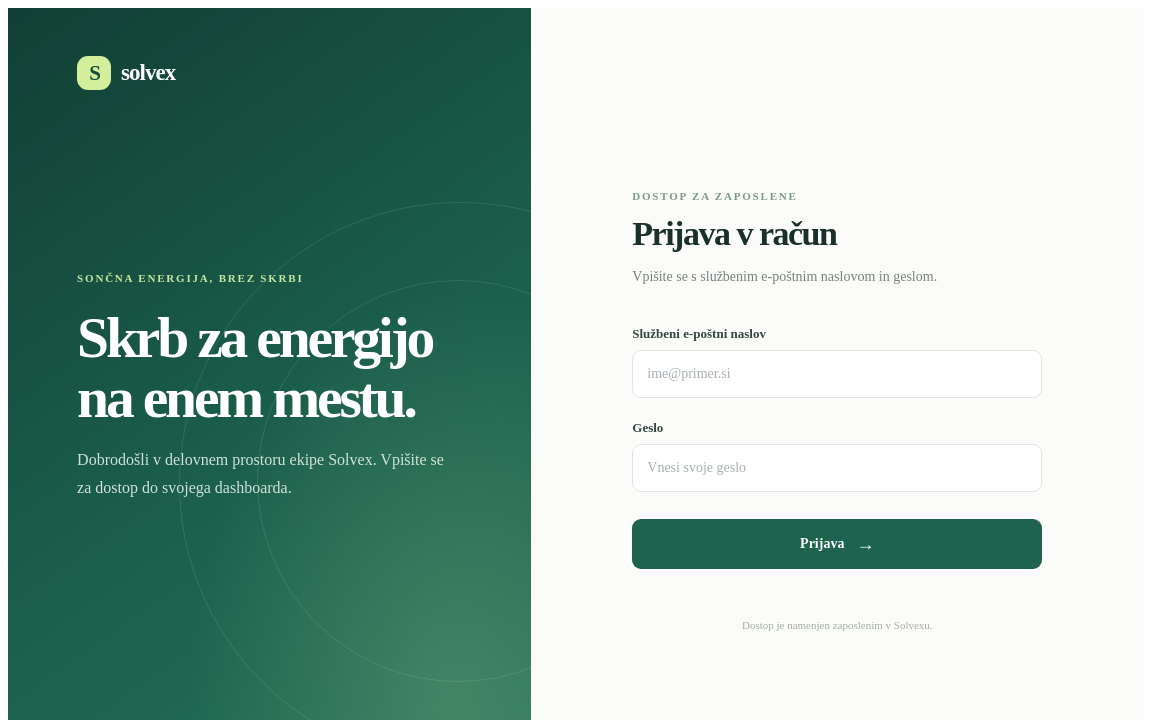
Prijava zaposlenega › ob nedosegljivem strežniku omogoči ponovni poskus
Type "test@example.com" into the field labelled "Službeni e-poštni naslov" at (837, 374), box [632,350,1042,398]
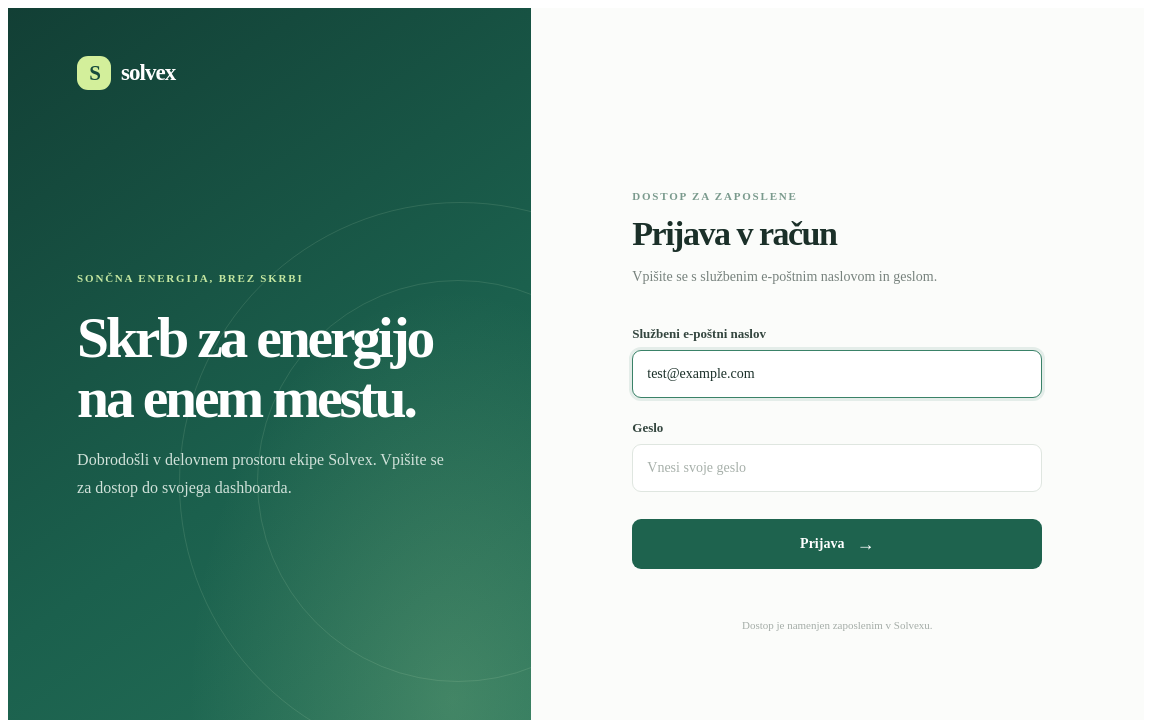
Type "TestPassword123!" into the password field labelled "Geslo" at (837, 468), box [632,444,1042,492]
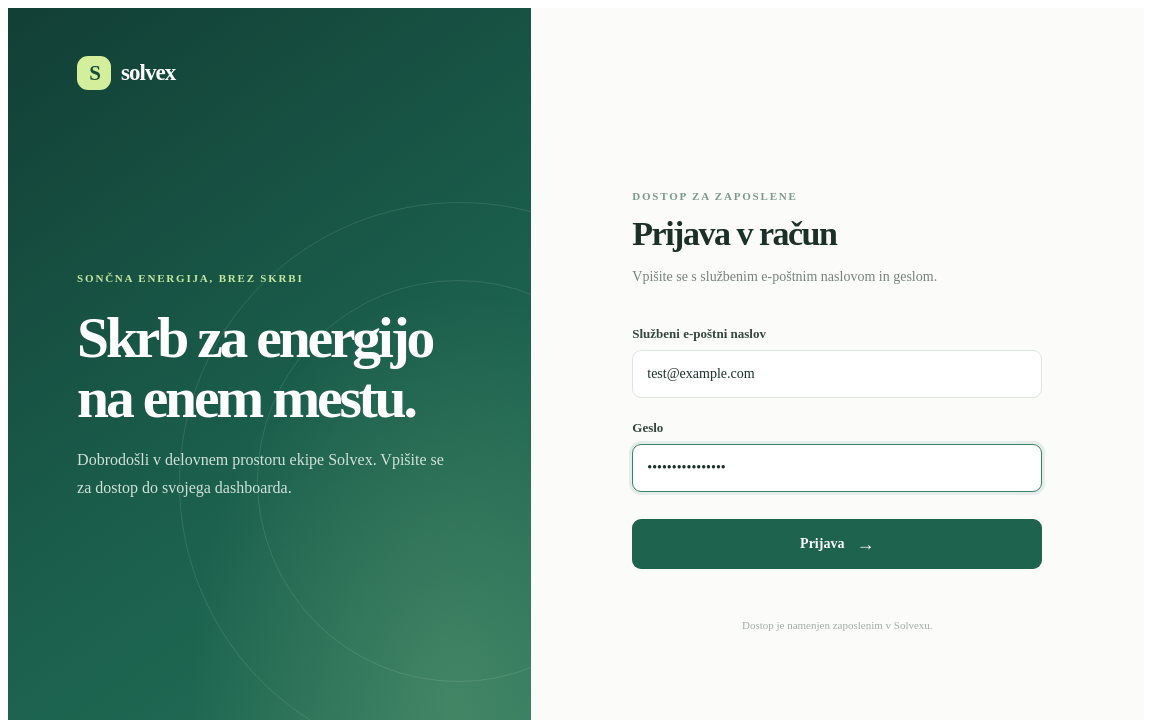
Click the button "Prijava →" at (837, 544), box [632,519,1042,569]
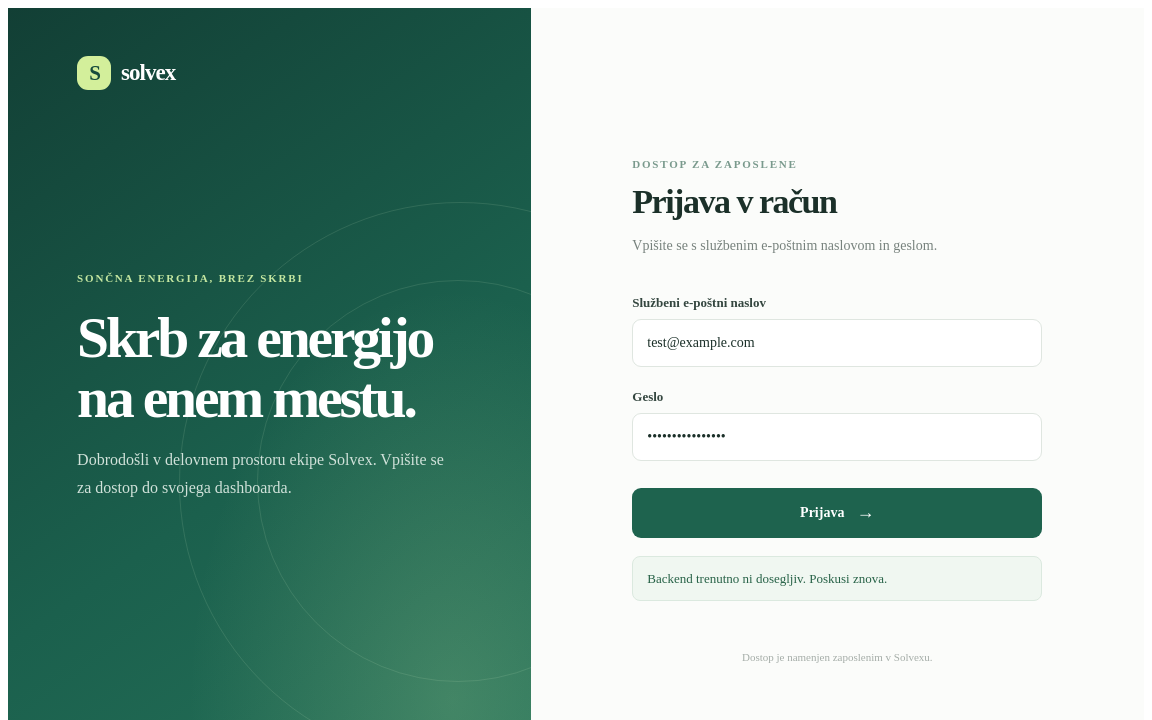
Expected: the button "Prijava →" is enabled, [632,488,1042,538]
Result: the message shows "Backend trenutno ni dosegljiv" at [647,571,887,586]
